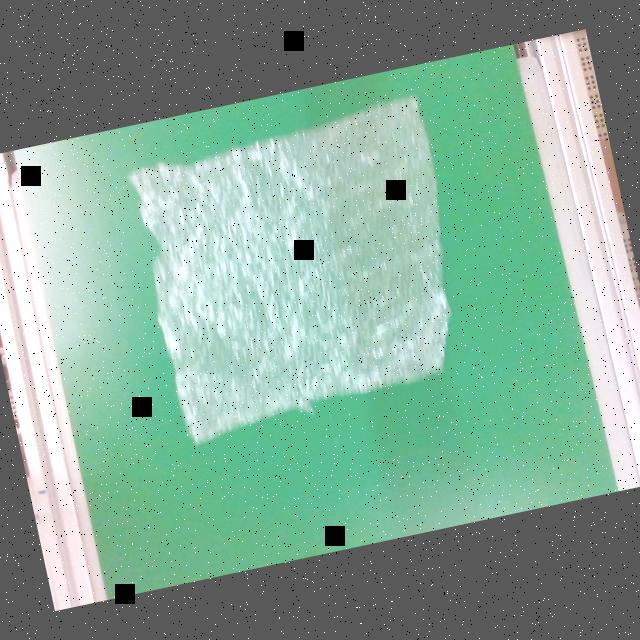scrap_plastic: (123, 92, 486, 459)
